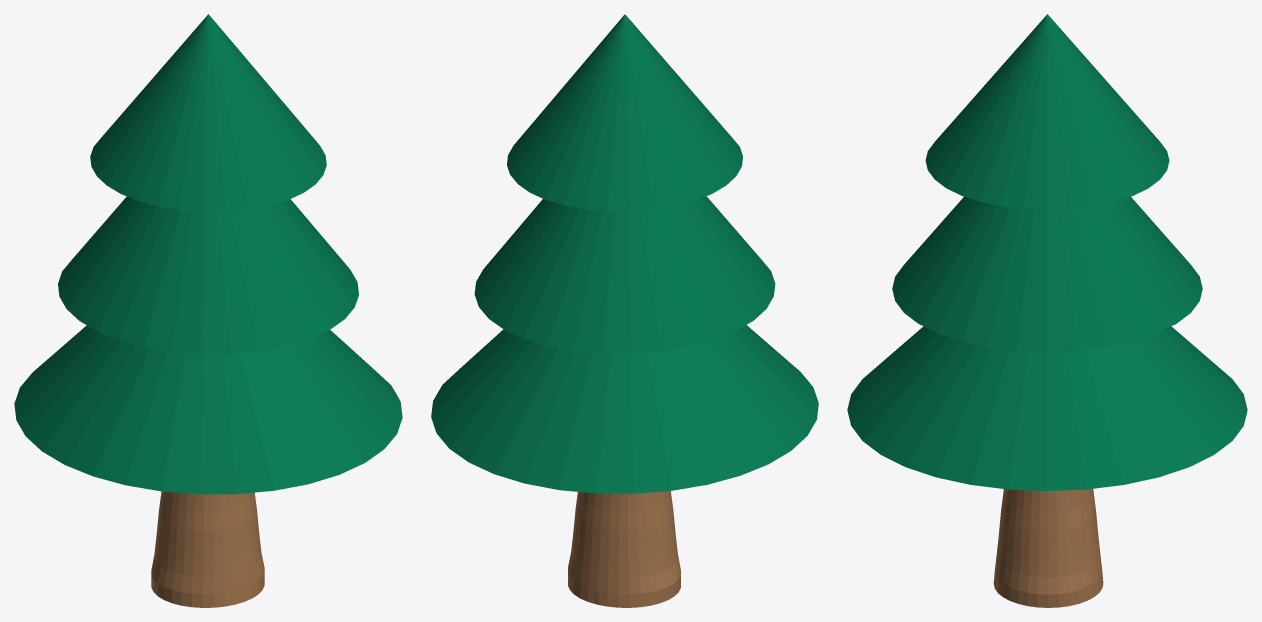
The model's file is Pine TreeT.fbx.
The picture shows the model from 3 angles, left to right: view 1: azimuth 30°, elevation 25°; view 2: azimuth 150°, elevation 25°; view 3: azimuth 270°, elevation 25°; orthographic projection.
Visible parts, largest first — view 1: Cone; view 2: Cone; view 3: Cone.
Boxes of the visible parts, left/top/right/bottom form: Cone: left=14, top=14, right=402, bottom=607; Cone: left=431, top=14, right=818, bottom=607; Cone: left=847, top=14, right=1247, bottom=607.
Bounding box in the file's own units: 68.94 × 113 × 71.93.
